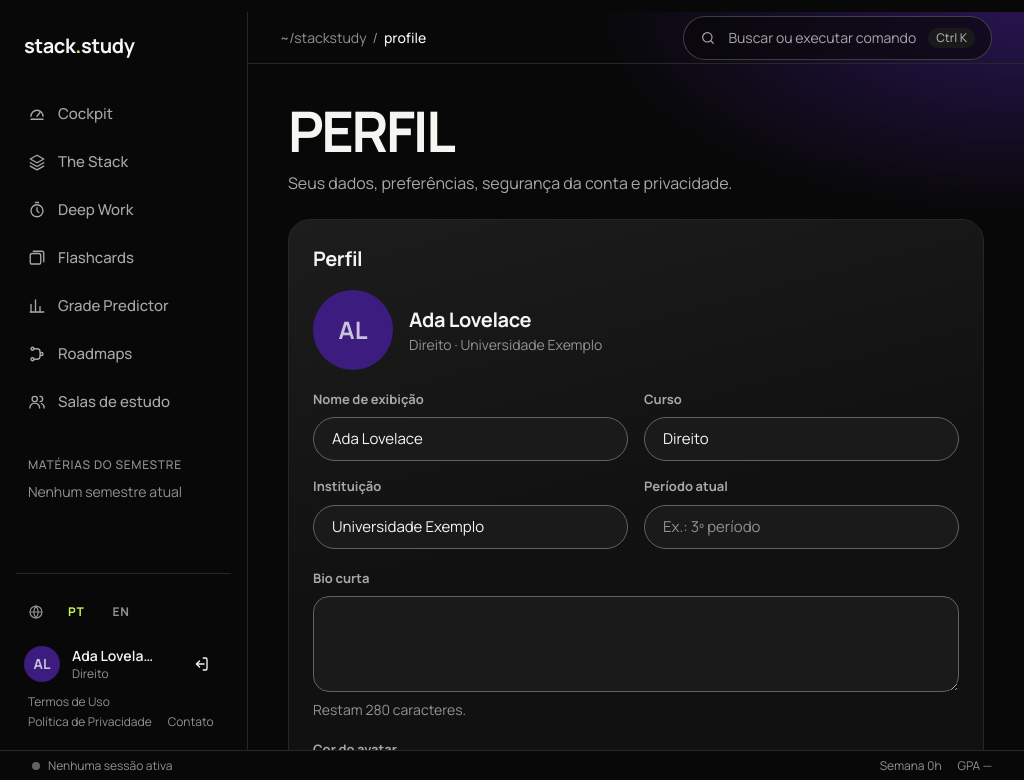
Test: Perfil › mostra as quatro seções e salva o perfil com feedback
Check: the element "Perfil" is shown, box [288,219,984,750]
Check: the field labelled "Curso" holds "Direito", box [644,417,959,461]
Replace the text in the field labelled "Nome de exibição" with "Ada Byron" at (470, 439), box [313,417,628,461]
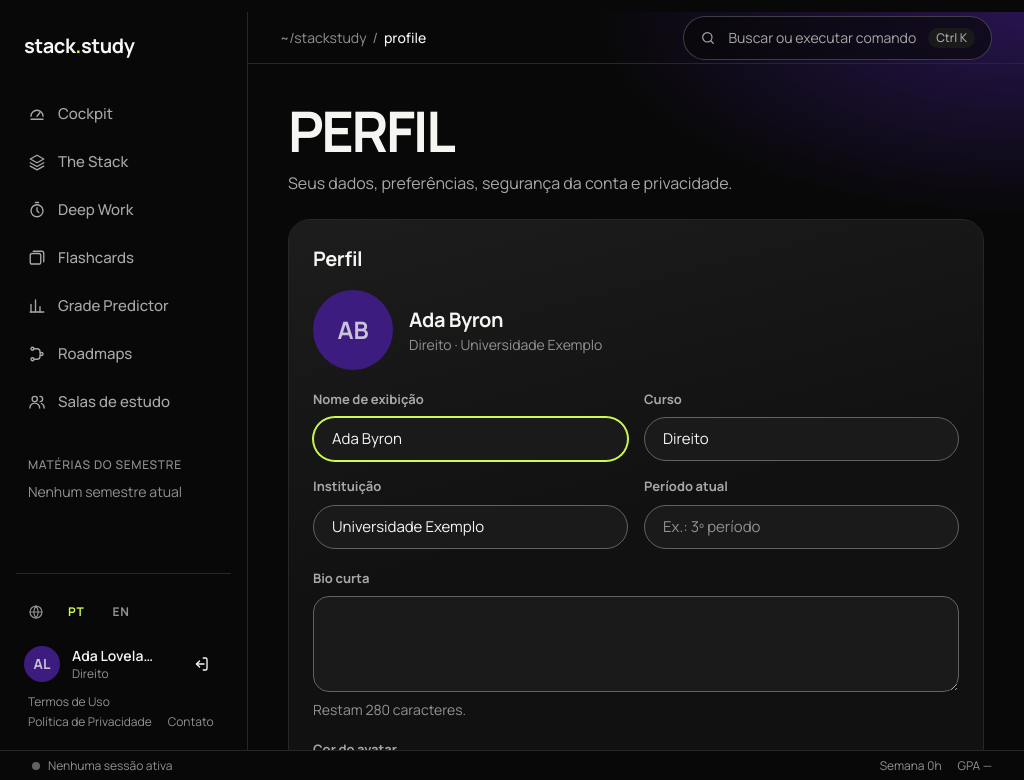
Type "3º período" into the field labelled "Período atual" at (802, 527), box [644,505,959,549]
(page scrolled)
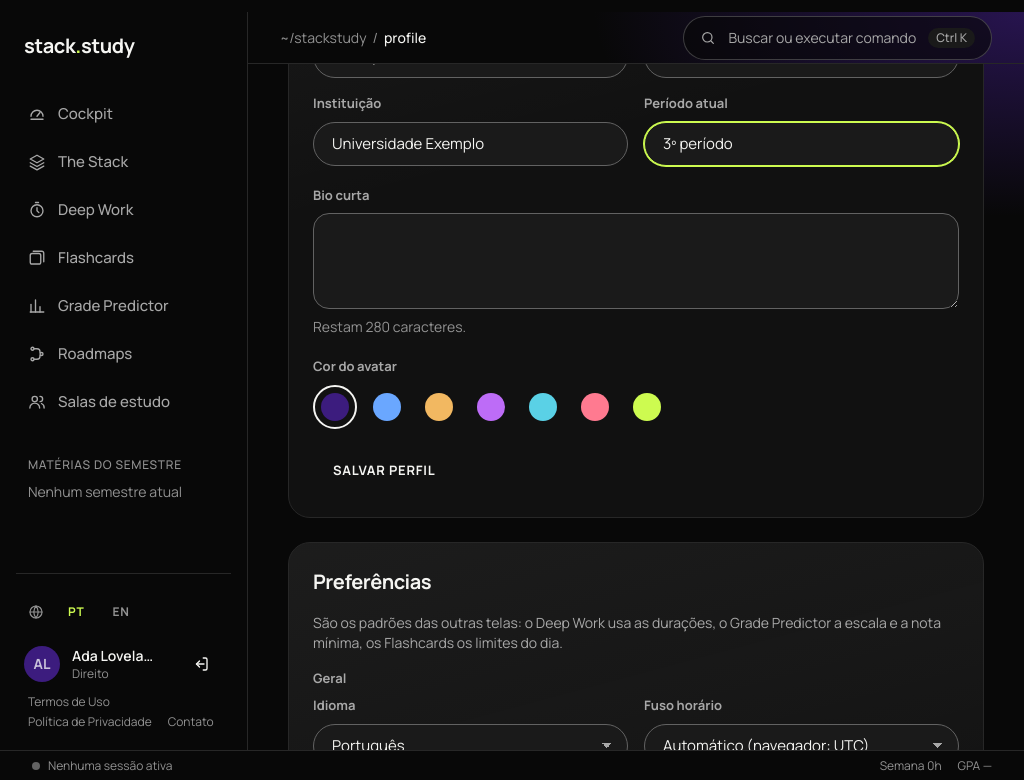
Click the radio button named "Roxo" at (491, 407), box [477,393,505,421]
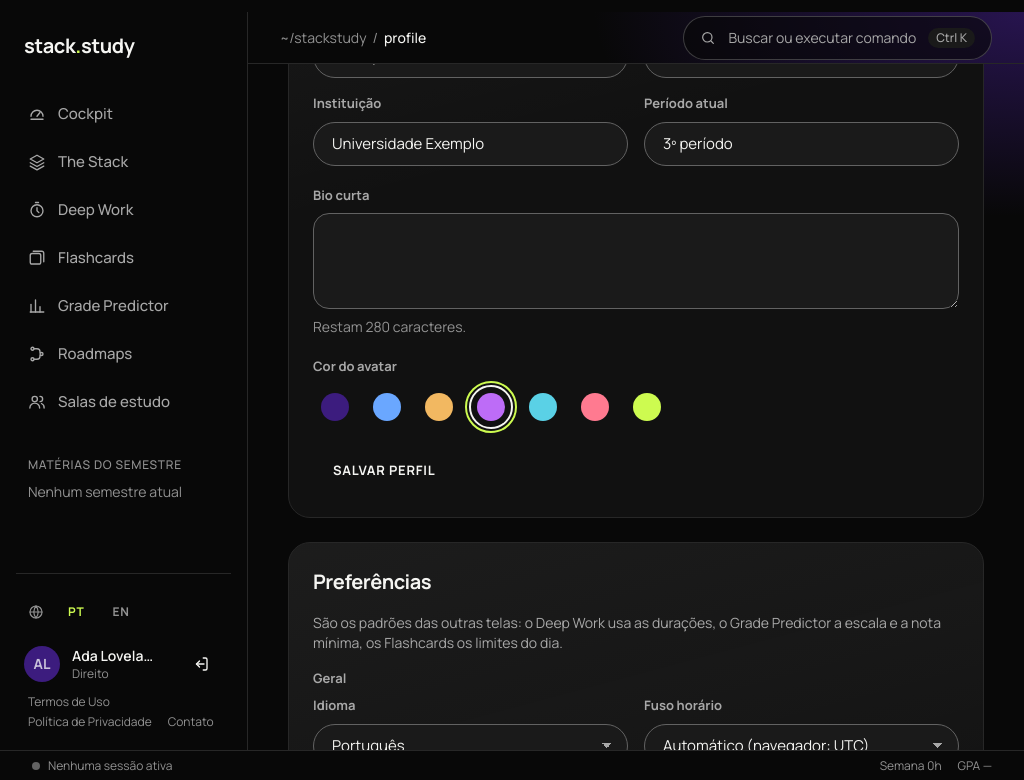
Click the button "Salvar perfil" at (384, 471), box [313,449,456,493]
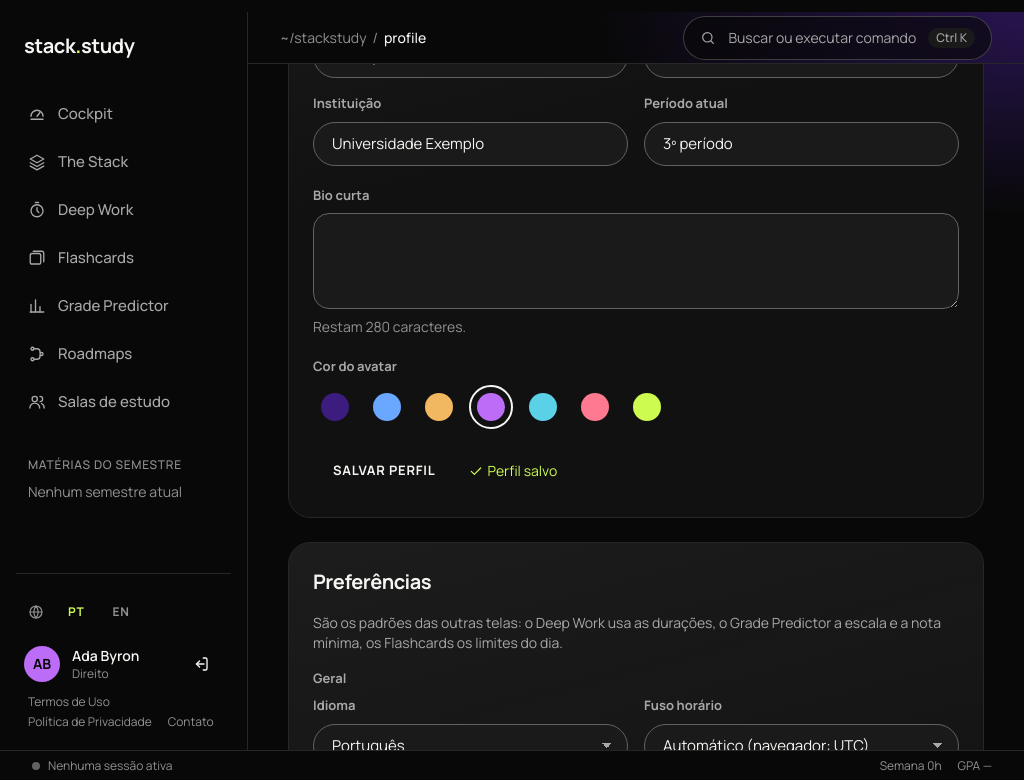
Check: the message reads "Perfil salvo", box [488,461,557,480]
Check: the link with aria-label "Abrir perfil de Ada Byron" is shown, box [24,646,139,682]
